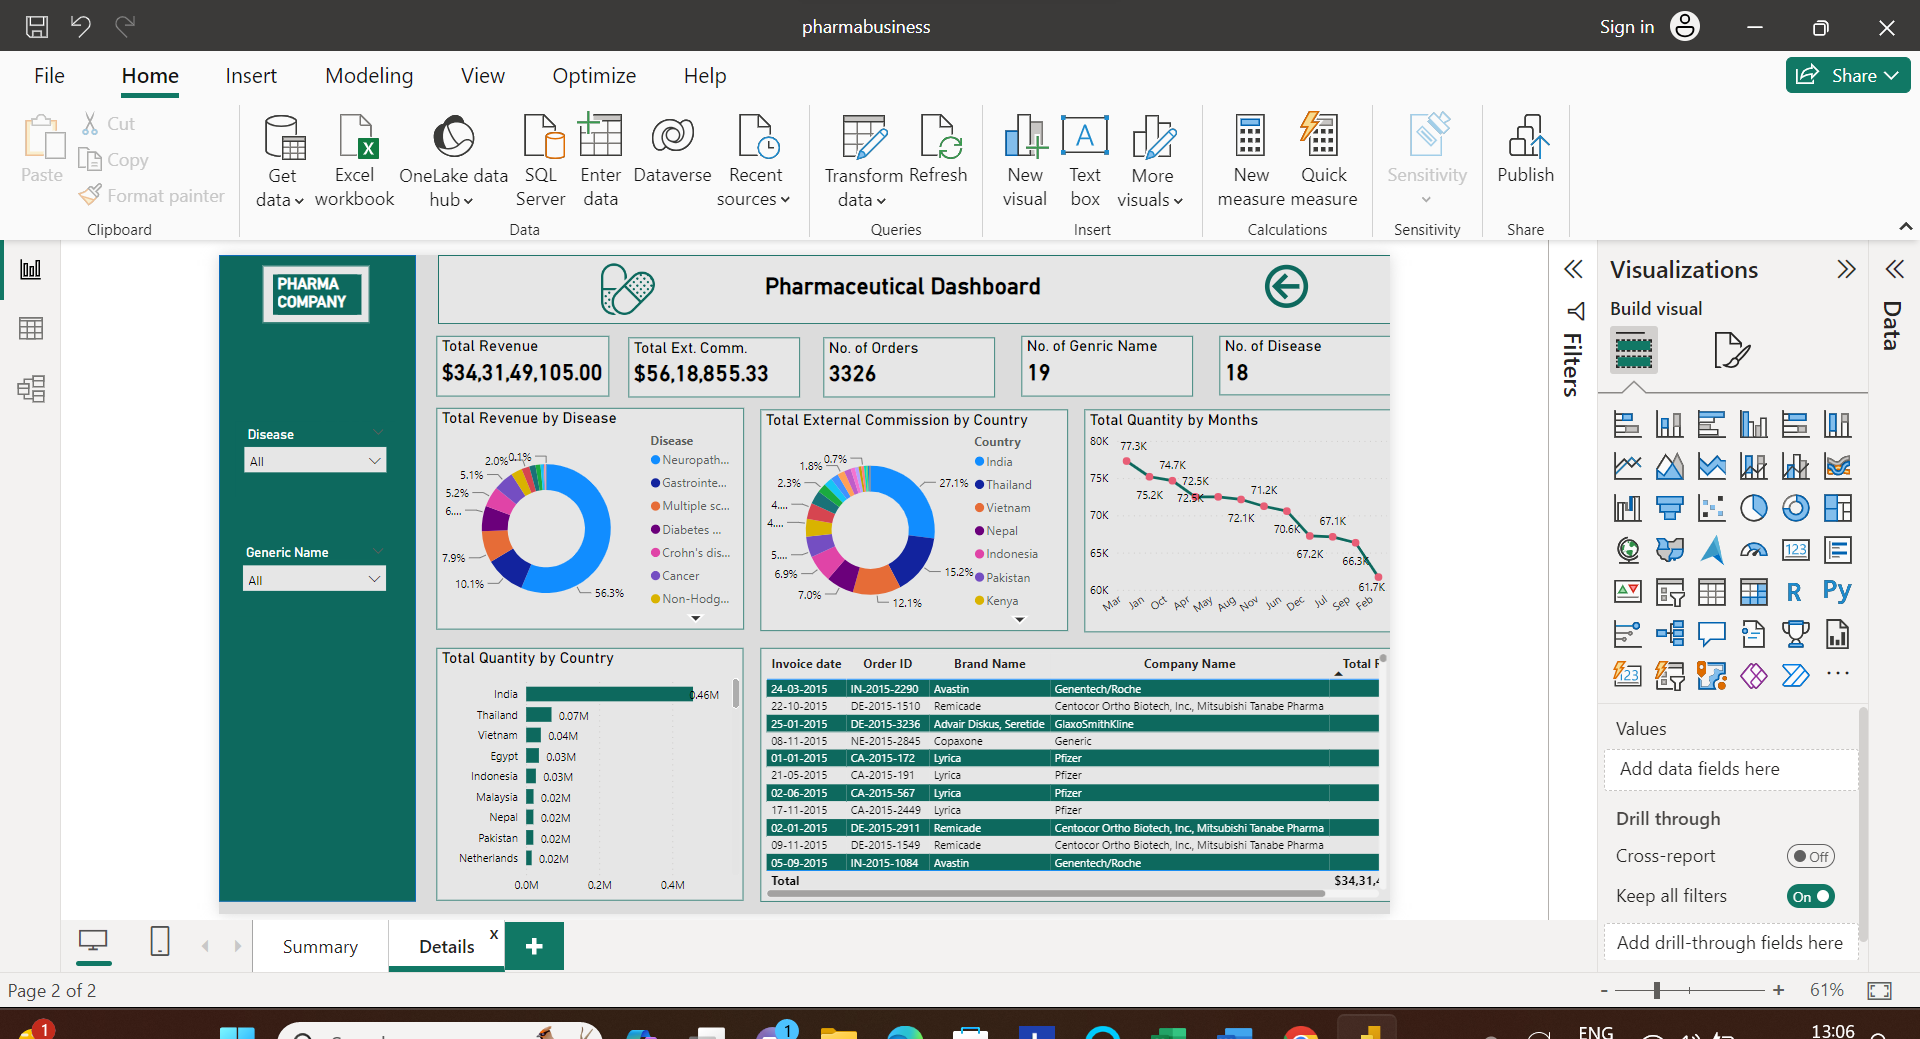

What the dashboard file says about the page in this screenshot:
{"tool":"powerbi","page":{"name":"Details","canvas":[1280,720],"ordinal":1},"visuals":[{"type":"multiRowCard","title":"No. of Genric Name","fields":{"Values":["PharmaDataset.#No.of generic name"]},"box":[876.2,88.8,187.5,66.2],"z":0},{"type":"clusteredBarChart","fields":{"Category":["PharmaDataset.ship to country"],"Y":["PharmaDataset.Total Quantity"]},"box":[237.5,430,335,276.2],"z":1000},{"type":"donutChart","title":"Total Revenue by Disease ","fields":{"Y":["PharmaDataset.Total Revenue"],"Category":["PharmaDataset.Disease Medical Use"]},"box":[237.2,167.9,335.9,242.3],"z":2000},{"type":"donutChart","title":"Total External Commission by Country","fields":{"Y":["PharmaDataset.Total External Commission"],"Category":["PharmaDataset.ship to country"]},"box":[592.3,169.2,335.9,242.3],"z":3000},{"type":"shape","box":[238.6,0,1042.1,75.4],"z":4000},{"type":"textbox","title":"Pharmaceutical Dashboard","box":[591.5,20.3,337.3,69.5],"z":5000},{"type":"image","box":[402,0,90.2,74.5],"z":6000},{"type":"shape","box":[0,0,215.3,706.8],"z":7000},{"type":"multiRowCard","title":"Total Revenue","fields":{"Values":["PharmaDataset.Total Revenue"]},"box":[237.5,88.8,188.8,66.2],"z":8000},{"type":"multiRowCard","title":"Total Ext. Comm.","fields":{"Values":["PharmaDataset.Total External Commission"]},"box":[447.5,90,187.5,65],"z":9000},{"type":"multiRowCard","title":"No. of Orders","fields":{"Values":["PharmaDataset.#Total orders"]},"box":[661.2,90,187.5,65],"z":10000},{"type":"multiRowCard","title":"No. of Disease","fields":{"Values":["PharmaDataset.#No. of Disease"]},"box":[1093,87.7,187.7,64.9],"z":11000},{"type":"slicer","title":"Disease","fields":{"Values":["PharmaDataset.Disease Medical Use"]},"box":[17.9,182.1,174.6,82.1],"z":12000},{"type":"tableEx","fields":{"Values":["PharmaDataset.Invoice date","PharmaDataset.Order ID","PharmaDataset.Brand Name","PharmaDataset.Company Name","PharmaDataset.Total Revenue"]},"box":[591.2,429.8,689.5,277.2],"z":13000},{"type":"shape","box":[47.1,12.1,117,63],"z":14000},{"type":"textbox","title":"PHARMA COMPANY","box":[58.8,20.7,97,46.1],"z":15000},{"type":"slicer","title":"Disease","fields":{"Values":["PharmaDataset.Generic Name"]},"box":[16.4,311.9,176.1,83.6],"z":16000},{"type":"actionButton","box":[1137.7,3.8,62.3,62.3],"z":17000},{"type":"lineChart","fields":{"Category":["PharmaDataset.Months"],"Y":["PharmaDataset.Total Quantity"]},"box":[945.1,168.6,335.3,243.1],"z":17001}]}

Visuals, with their boxes on the page's 1280x720 design canvas (x1, y1, x2, y2). These are canvas units, not pixel positions in the 1920x1039 screenshot, which may show the page scaled, cropped or inside an application window:
"No. of Genric Name" multiRowCard: 876/89/1064/155
clusteredBarChart - PharmaDataset.ship to country x PharmaDataset.Total Quantity: 238/430/572/706
"Total Revenue by Disease " donutChart: 237/168/573/410
"Total External Commission by Country" donutChart: 592/169/928/412
shape: 239/0/1281/75
"Pharmaceutical Dashboard" textbox: 592/20/929/90
image: 402/0/492/74
shape: 0/0/215/707
"Total Revenue" multiRowCard: 238/89/426/155
"Total Ext. Comm." multiRowCard: 448/90/635/155
"No. of Orders" multiRowCard: 661/90/849/155
"No. of Disease" multiRowCard: 1093/88/1281/153
"Disease" slicer: 18/182/192/264
tableEx - PharmaDataset.Invoice date x PharmaDataset.Order ID: 591/430/1281/707
shape: 47/12/164/75
"PHARMA COMPANY" textbox: 59/21/156/67
"Disease" slicer: 16/312/192/396
actionButton: 1138/4/1200/66
lineChart - PharmaDataset.Months x PharmaDataset.Total Quantity: 945/169/1280/412
